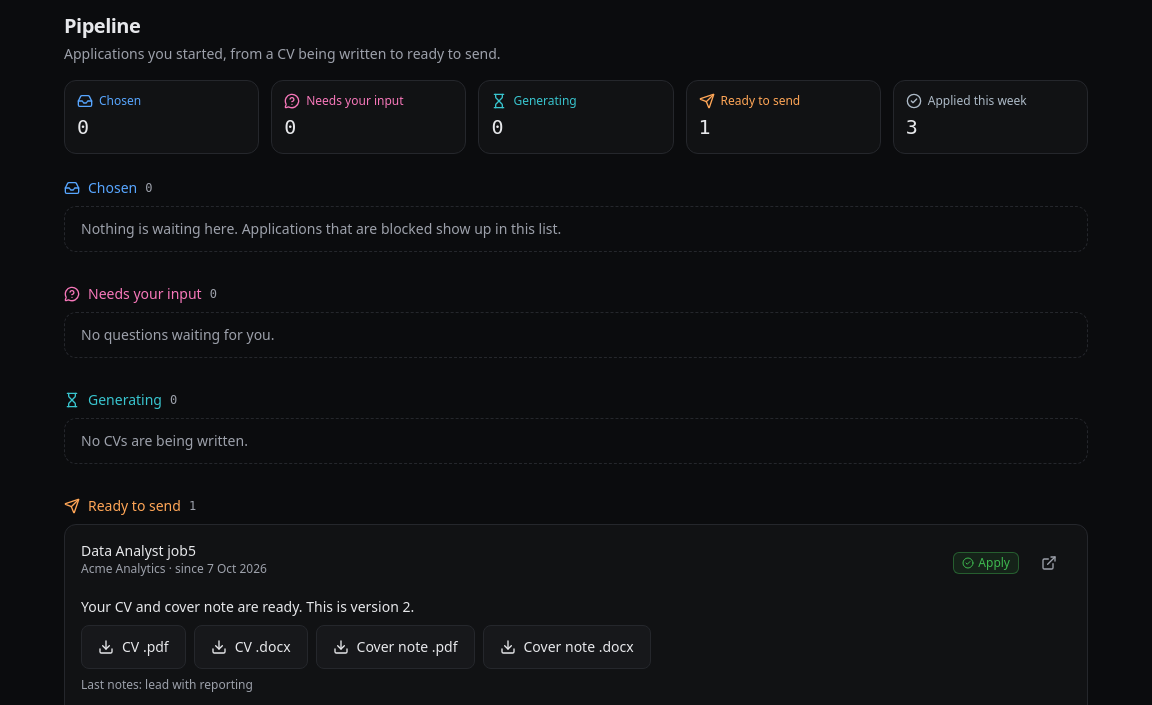
Test: Ready to send › shows a failed download without leaving the page
Step 1. Click the button with aria-label "Download CV as PDF" → click(133, 647), box top-left (81, 625), bottom-right (186, 669)
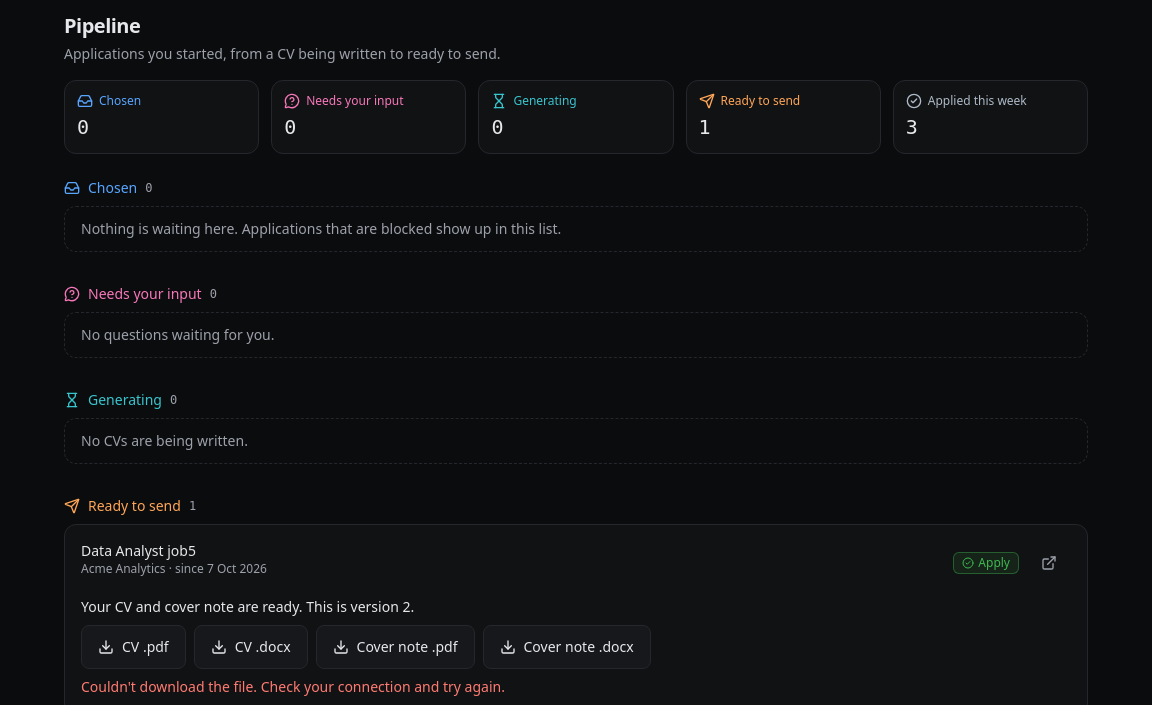
Now the message shows "Couldn't download", box top-left (81, 677), bottom-right (505, 696)
